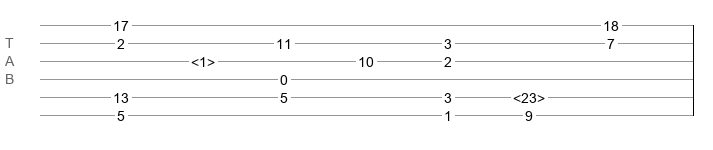0: (280, 72, 288, 82)
1: (444, 108, 452, 118)
10: (358, 54, 374, 64)
11: (276, 36, 292, 46)
13: (113, 90, 129, 100)
17: (113, 18, 129, 28)
18: (603, 18, 619, 28)
2: (117, 36, 125, 46), (444, 54, 452, 64)
3: (444, 36, 452, 46), (444, 90, 452, 100)
5: (117, 108, 125, 118), (280, 90, 288, 100)
7: (607, 36, 615, 46)
9: (525, 108, 533, 118)
harmonic: (513, 90, 545, 100), (191, 54, 215, 64)
